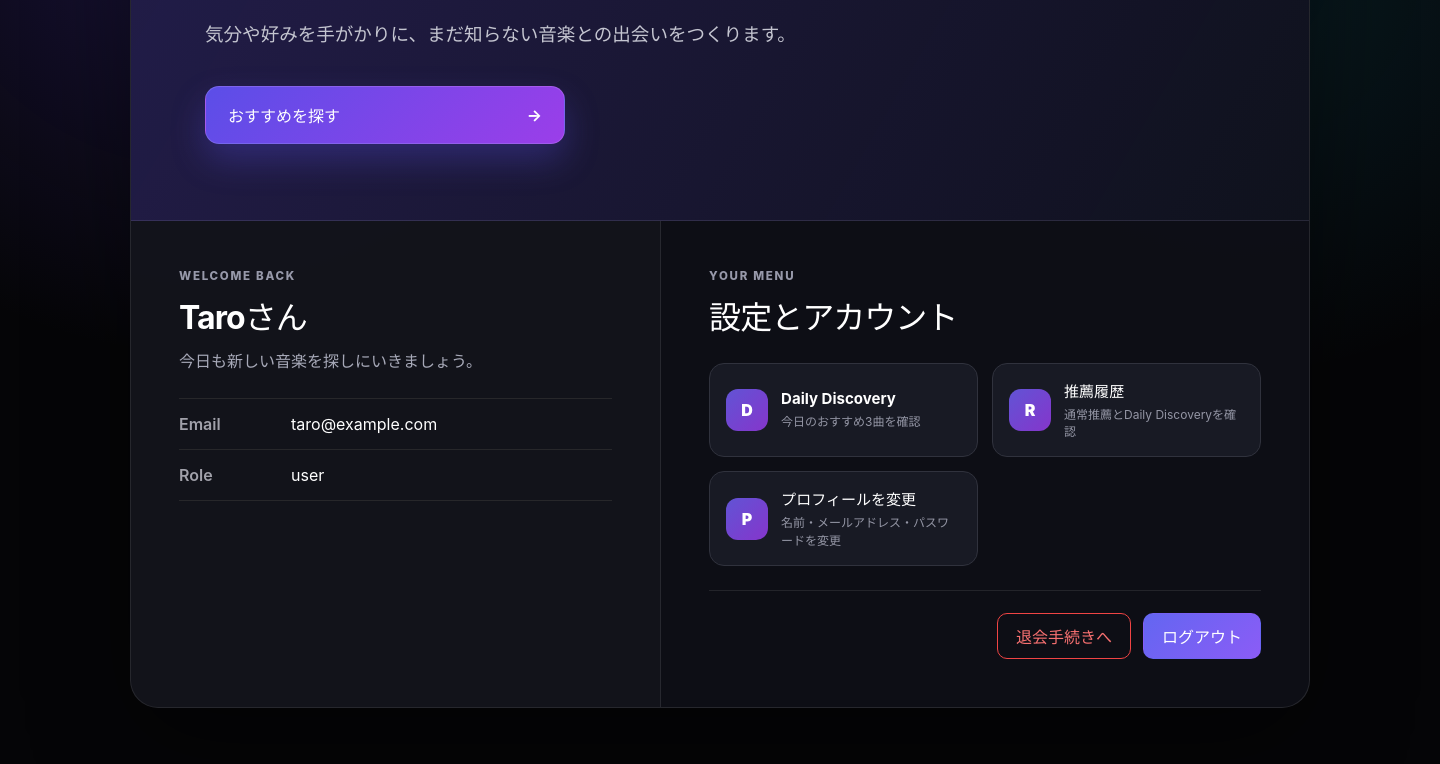
Scenario: TopPage › disables the button while logout is running
(page scrolled)
Click the button "ログアウト" at (1202, 636), box [1143, 613, 1261, 659]
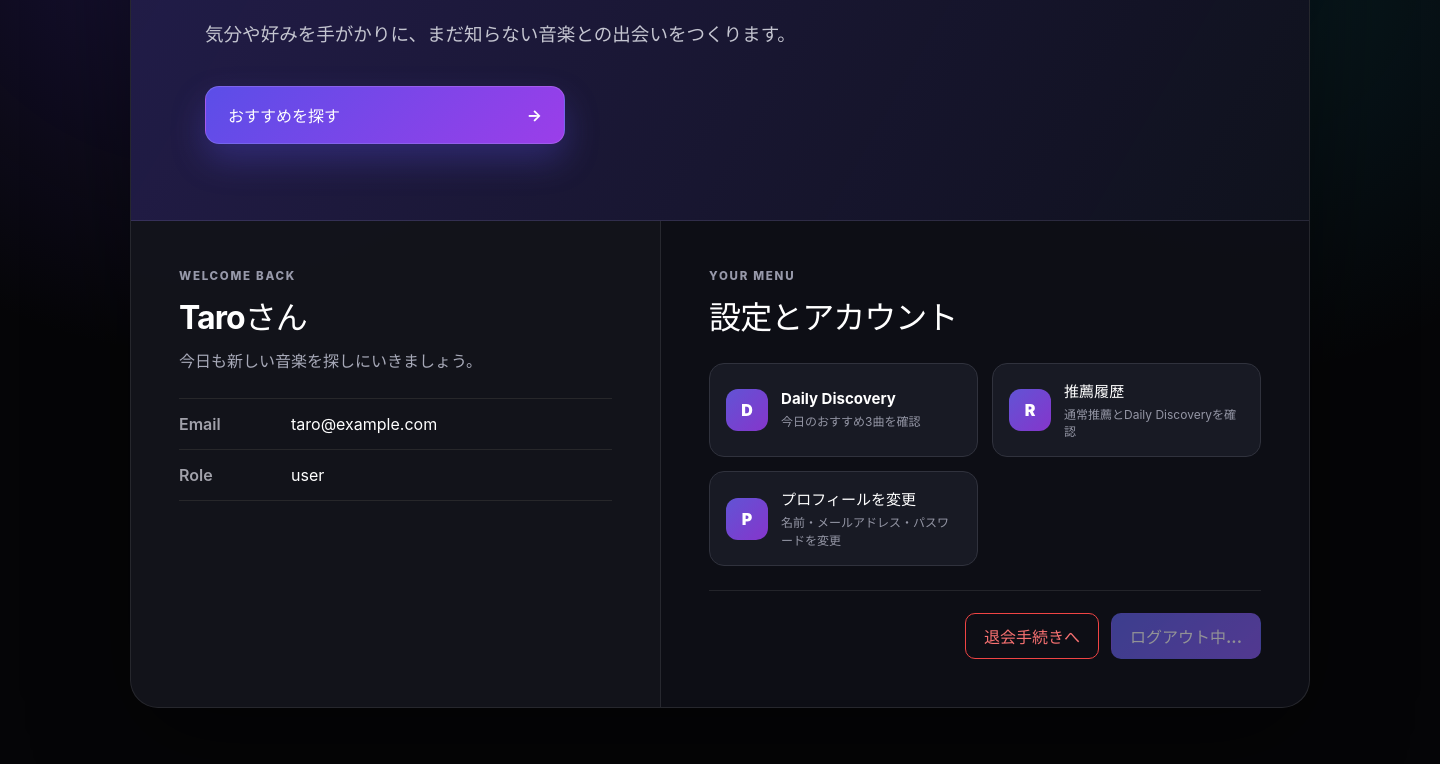
Expected: the button "ログアウト中..." is disabled, [1111, 613, 1261, 659]
